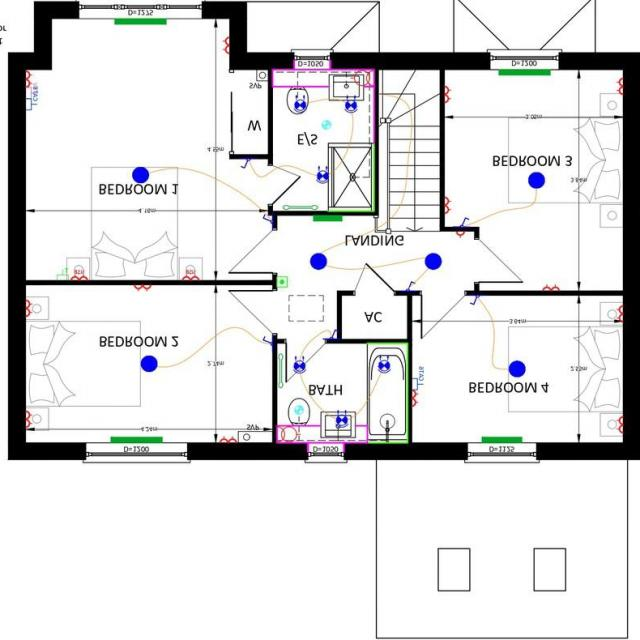Cat 6 Data Socket: (413, 369, 438, 395), (28, 96, 42, 119)
Ceiling Mounted Continuous Extract Fan With Boost Mode Activated By Light Switch: (287, 400, 308, 421), (318, 116, 336, 134)
Co-Ax TV Socket: (27, 88, 45, 100)
Double Socket: (610, 406, 627, 445), (609, 76, 627, 106), (217, 32, 233, 65), (443, 80, 460, 110), (442, 188, 457, 220), (612, 299, 627, 327), (26, 404, 40, 433), (540, 279, 563, 295), (24, 70, 42, 90), (216, 434, 245, 446), (26, 290, 35, 328), (130, 285, 156, 297), (412, 389, 424, 412)
Full Height Tiling: (364, 339, 412, 447), (332, 142, 382, 214)
Light Switch: (260, 328, 278, 353), (237, 157, 259, 176), (462, 297, 487, 311), (399, 280, 423, 294), (324, 325, 343, 341), (456, 213, 476, 228), (260, 212, 274, 232)
Low Energy Downlighter: (338, 91, 363, 122), (376, 347, 399, 378), (310, 160, 333, 190), (291, 91, 314, 118), (290, 346, 308, 376), (335, 400, 350, 433)
Low Energy Pendant Light: (134, 353, 166, 383), (518, 170, 555, 195), (500, 353, 534, 380), (128, 160, 157, 190), (309, 241, 333, 276), (420, 248, 450, 272)
Programmable Room Thermostat: (274, 270, 292, 296)
Radiator: (476, 428, 531, 448), (112, 18, 172, 36), (492, 66, 557, 82), (103, 434, 176, 446), (302, 215, 352, 225)
Shaver Socket: (344, 69, 379, 90), (278, 423, 307, 446)
Single Socket: (451, 233, 471, 243)
Telephone Socket: (54, 262, 72, 281)
USB Double Socket: (178, 269, 204, 284), (70, 264, 88, 283)
